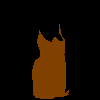vestito: (31, 24, 68, 99)
